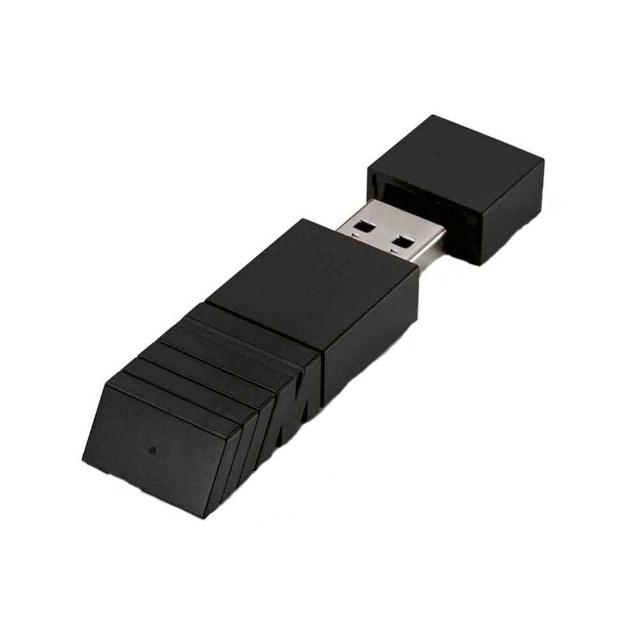USB-Flash-Drive: (81, 199, 449, 522)
